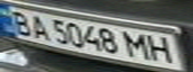0: (63, 20, 84, 48)
4: (81, 24, 103, 52)
5: (45, 17, 72, 45)
8: (96, 26, 121, 56)
A: (24, 12, 54, 42)
B: (3, 8, 36, 36)
H: (145, 33, 178, 65)
M: (121, 29, 151, 61)
